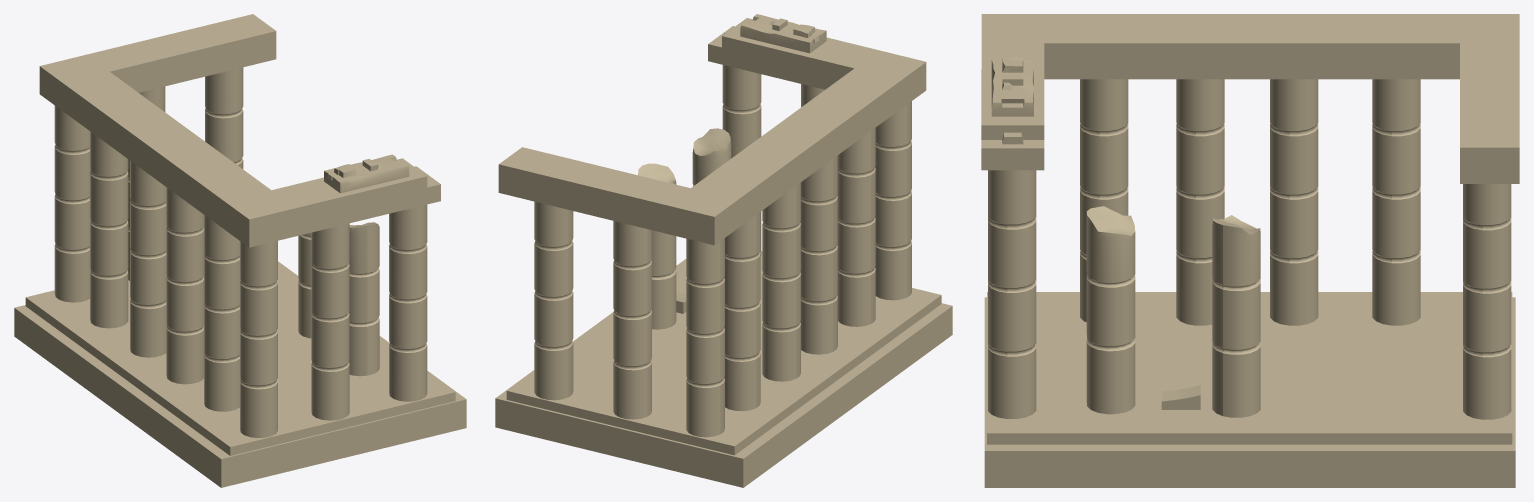
File: greek_ruin.glb
3 renders of one model, left to right at view 1: azimuth 30°, elevation 25°; view 2: azimuth 150°, elevation 25°; view 3: azimuth 270°, elevation 25°, orthographic. The views are drawn at different scales.
Visible parts, largest first — view 1: Cube.008__0; view 2: Cube.008__0; view 3: Cube.008__0.
Part boxes in pixels (x1,y1,x2,y2): Cube.008__0: (14,14,466,487); Cube.008__0: (495,14,952,487); Cube.008__0: (981,14,1519,487).
Size of the model in its own units: 0.9228 by 1 by 1.37.
